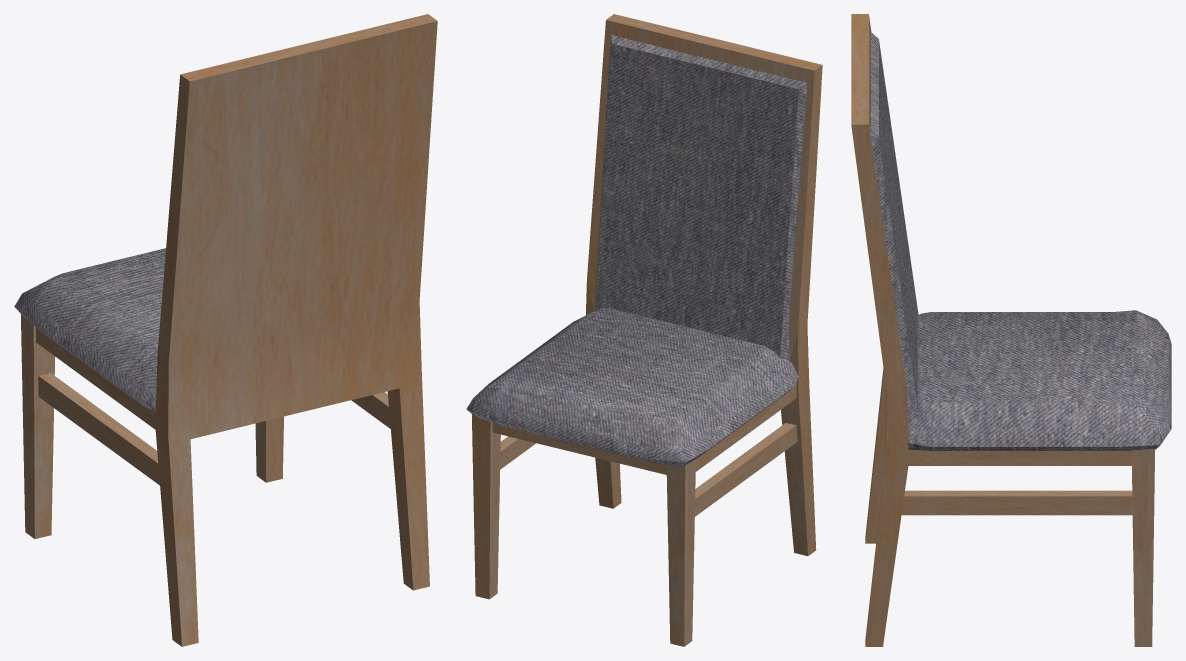
The model's file is Chair_01.glb.
3 views of the same model, side by side, from view 1: azimuth 30°, elevation 25°; view 2: azimuth 150°, elevation 25°; view 3: azimuth 270°, elevation 25° (orthographic). The views are drawn at different scales.
Parts seen in each view (by area): view 1: Chair_01; view 2: Chair_01; view 3: Chair_01.
Part boxes in pixels (x1,y1,x2,y2): Chair_01: [14, 14, 437, 646]; Chair_01: [466, 14, 822, 646]; Chair_01: [851, 14, 1171, 646].
Bounding box in the file's own units: 0.6043 × 1.22 × 0.6784.
Materials: 2 (2 with a texture image).
